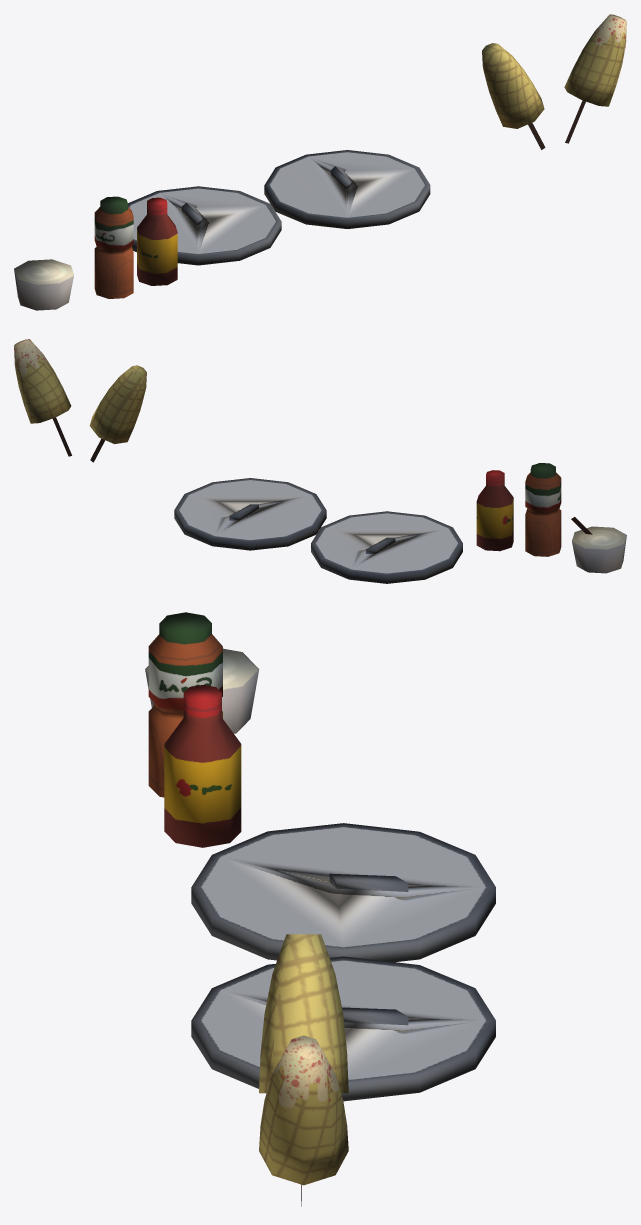
File: ElotesT.fbx
3 views of the same model, one above another, from view 1: azimuth 30°, elevation 25°; view 2: azimuth 150°, elevation 25°; view 3: azimuth 270°, elevation 25° (orthographic). The views are drawn at different scales.
Visible parts, largest first — view 1: Boxuvsaccesorios; view 2: Boxuvsaccesorios; view 3: Boxuvsaccesorios.
Boxes of the visible parts, x1,y1,x2,y2 form: Boxuvsaccesorios: (14,14,626,310); Boxuvsaccesorios: (14,339,626,583); Boxuvsaccesorios: (145,612,495,1206).
Size of the model in its own units: 90.68 by 16.92 by 23.61.
Materials: 1 (1 with a texture image).
